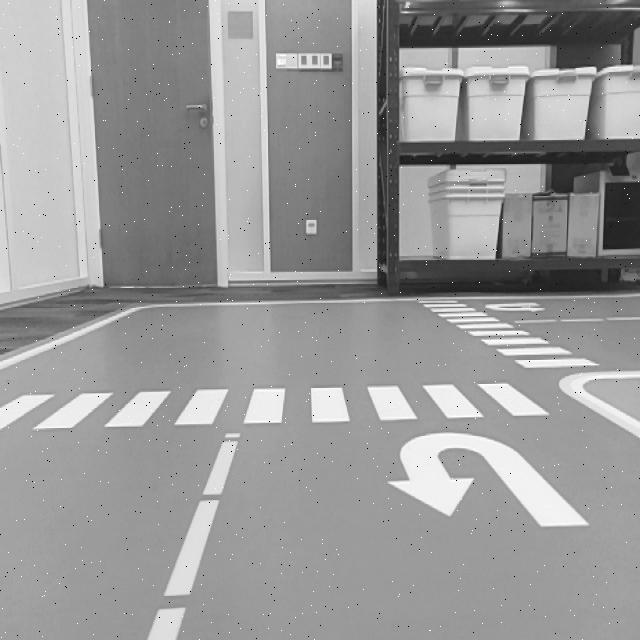left_lane: (145, 430, 241, 640)
right_lane: (0, 305, 134, 373), (560, 387, 640, 439)
